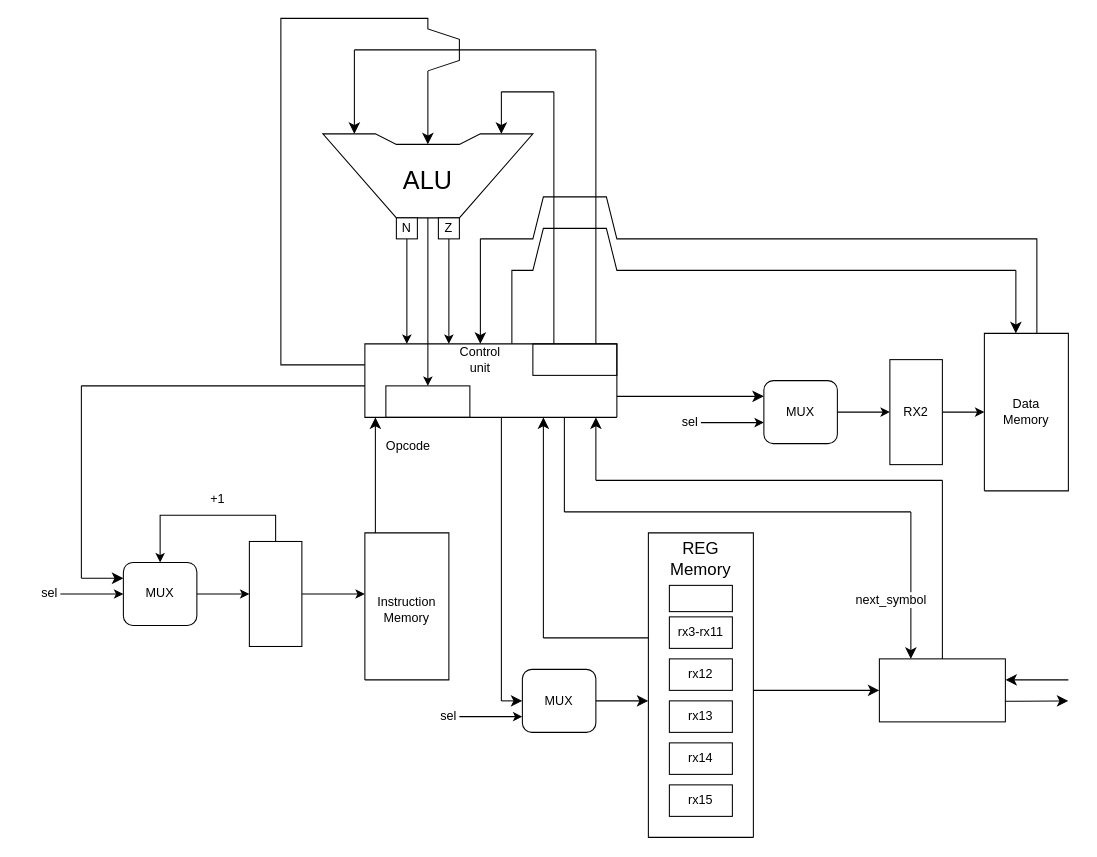
This 1097x857 diagram has some shape labels left out. Here are the shapes that lost their labels. From the top down, the centre of each, then its label:
the point at 574,359: ALU input
the point at 427,401: REG input
the point at 275,593: RX1
the point at 700,598: rx0
the point at 941,690: I/O
